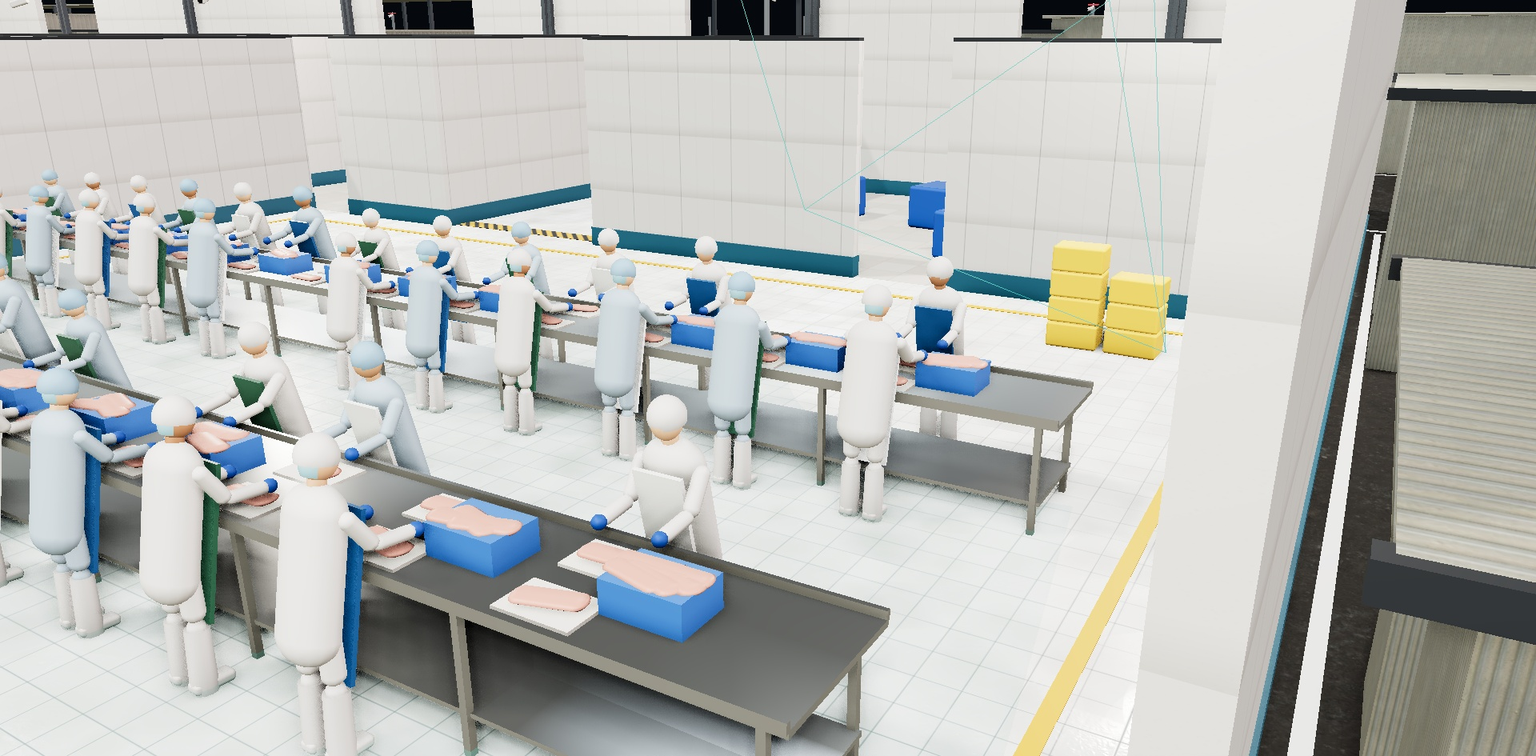apron: (284, 494, 387, 689), (147, 452, 247, 626), (35, 420, 130, 575), (632, 454, 708, 635), (342, 391, 418, 536), (232, 367, 305, 499), (846, 332, 903, 467), (56, 328, 123, 438), (717, 316, 767, 438), (910, 299, 961, 417), (0, 293, 49, 409), (602, 300, 652, 413), (501, 287, 550, 392), (411, 276, 460, 373), (190, 232, 242, 321), (0, 392, 32, 532), (686, 274, 728, 375), (331, 266, 378, 355), (131, 226, 181, 309), (591, 264, 632, 357), (78, 219, 126, 297), (289, 217, 333, 299), (505, 254, 546, 341), (28, 214, 75, 287), (231, 212, 274, 288), (428, 246, 468, 327), (358, 237, 398, 314), (177, 207, 219, 278), (128, 202, 168, 269), (83, 197, 122, 261), (41, 193, 78, 253), (0, 209, 28, 277)
glove: (402, 515, 430, 543), (351, 499, 379, 526), (647, 526, 672, 554), (586, 509, 611, 536), (257, 474, 283, 498), (215, 461, 241, 484), (140, 438, 165, 459), (106, 427, 131, 448), (340, 444, 364, 465), (218, 412, 241, 433), (300, 432, 323, 453), (185, 403, 208, 423), (37, 411, 60, 430), (9, 402, 32, 420), (43, 364, 63, 380), (914, 346, 930, 364), (866, 339, 882, 357), (19, 358, 39, 372), (779, 333, 794, 349), (889, 330, 904, 346), (935, 337, 950, 353), (665, 312, 680, 327), (738, 327, 753, 342), (561, 300, 576, 314), (630, 307, 644, 321), (530, 295, 545, 308), (662, 299, 676, 312), (596, 291, 609, 304), (697, 305, 710, 318), (468, 289, 482, 301), (441, 285, 455, 297), (566, 287, 579, 299), (168, 234, 182, 245), (260, 235, 274, 246), (281, 239, 295, 250), (248, 246, 262, 257), (188, 237, 201, 248), (403, 265, 416, 276), (385, 279, 398, 290), (361, 275, 374, 286), (480, 276, 493, 287), (507, 280, 520, 291), (226, 243, 240, 253), (427, 269, 439, 280), (332, 255, 344, 265), (353, 258, 365, 268), (171, 226, 184, 235), (130, 232, 143, 241), (207, 230, 220, 239), (226, 233, 239, 242), (62, 223, 74, 232), (154, 223, 166, 232), (113, 229, 125, 238), (30, 220, 42, 228), (16, 217, 28, 225), (122, 220, 134, 228), (78, 226, 90, 234), (62, 212, 73, 220), (76, 214, 87, 222), (107, 218, 118, 226), (20, 207, 31, 214), (33, 209, 43, 216)
hairnet: (277, 417, 356, 480), (137, 382, 211, 436), (634, 382, 697, 438), (23, 357, 92, 404), (337, 331, 394, 374), (225, 313, 279, 351), (856, 276, 900, 314), (47, 282, 95, 313), (721, 264, 762, 298), (604, 252, 644, 283), (921, 250, 959, 282), (501, 243, 539, 271), (409, 235, 446, 260), (688, 231, 722, 258), (186, 194, 223, 217), (328, 227, 363, 251), (126, 189, 162, 211), (591, 224, 624, 248), (504, 217, 536, 240), (285, 182, 318, 203), (426, 211, 457, 233), (72, 185, 106, 205), (227, 179, 258, 198), (23, 182, 55, 200), (355, 205, 385, 224), (173, 175, 203, 193), (123, 172, 152, 189), (0, 244, 15, 275), (78, 170, 105, 185), (36, 167, 62, 182), (0, 179, 8, 196)
person: (213, 396, 450, 756), (77, 366, 309, 716), (579, 367, 744, 734), (0, 342, 194, 654), (286, 321, 458, 614), (170, 304, 346, 571), (3, 275, 163, 495), (820, 266, 935, 534), (690, 256, 795, 500), (0, 324, 91, 602), (573, 244, 684, 470), (884, 244, 984, 478), (471, 236, 582, 444), (0, 238, 93, 469), (381, 229, 491, 420), (157, 190, 276, 365), (98, 185, 217, 349), (301, 222, 409, 399), (660, 226, 748, 426), (46, 182, 159, 335), (562, 219, 654, 405), (252, 179, 358, 340), (475, 213, 568, 385), (0, 179, 106, 322), (397, 208, 491, 368), (199, 176, 299, 326), (326, 201, 420, 353), (145, 173, 244, 314), (98, 170, 193, 302), (53, 167, 145, 292), (11, 165, 101, 282), (0, 176, 59, 311), (0, 230, 26, 444), (0, 305, 8, 559), (0, 173, 14, 300)
